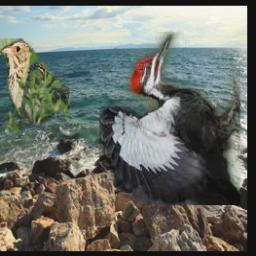Sparrow: (0, 38, 71, 132)
Woodpecker: (100, 33, 241, 206)
